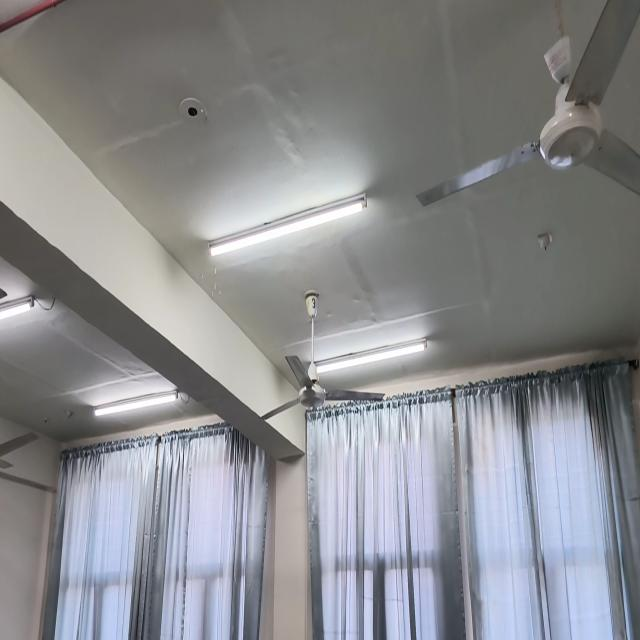Light: (209, 193, 367, 256), (317, 338, 427, 375), (93, 389, 190, 417), (0, 295, 37, 319)
